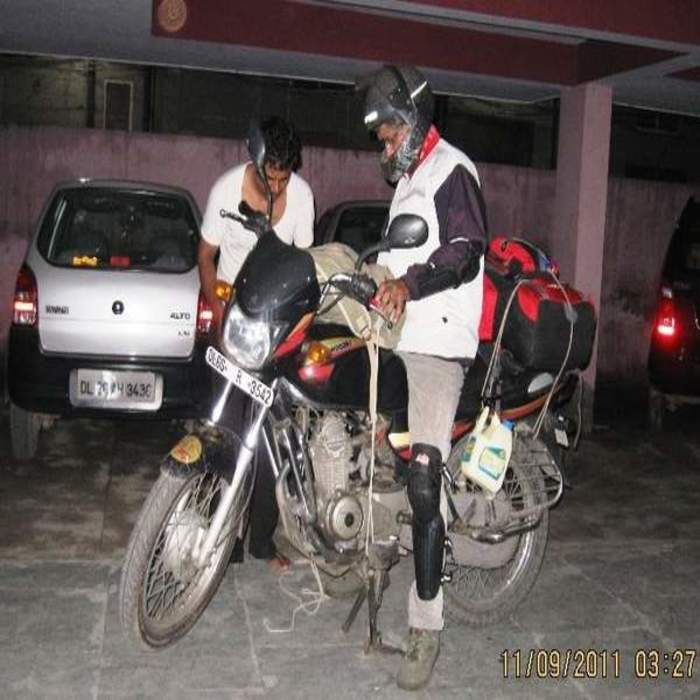h: (361, 60, 437, 186)
n: (204, 343, 278, 414), (75, 363, 155, 404)
